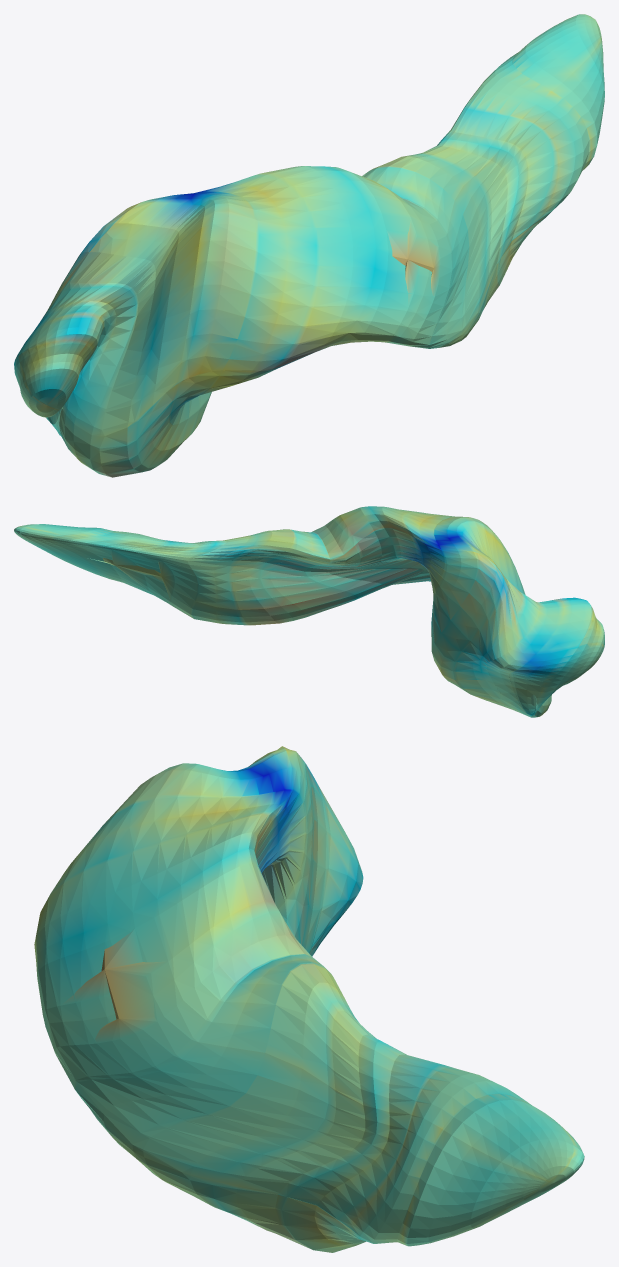
File: pancreas_errormap.glb
3 views of the same model, one above another, from view 1: azimuth 30°, elevation 25°; view 2: azimuth 150°, elevation 25°; view 3: azimuth 270°, elevation 25° (orthographic). The views are drawn at different scales.
Visible parts, largest first — view 1: world; view 2: world; view 3: world.
Boxes of the visible parts, <box> form: world: <box>14,14,604,477</box>; world: <box>14,506,604,717</box>; world: <box>34,746,584,1252</box>.
Bounding box in the file's own units: 0.1704 × 0.0581 × 0.0823.
